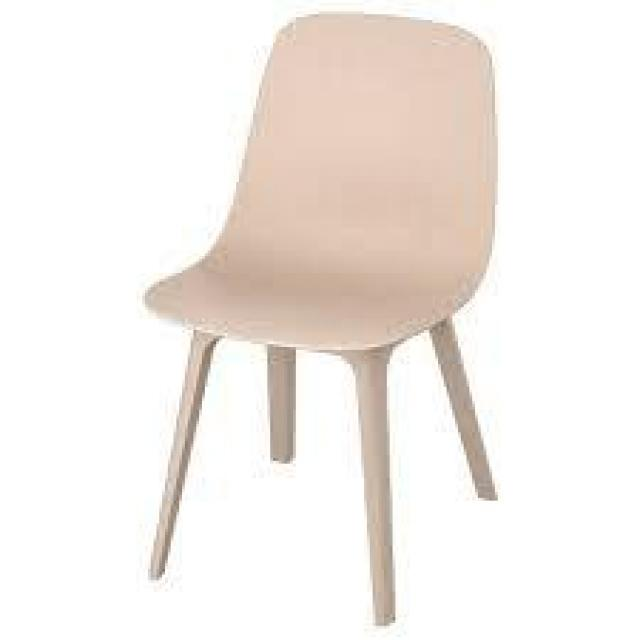chair: (127, 10, 516, 621)
